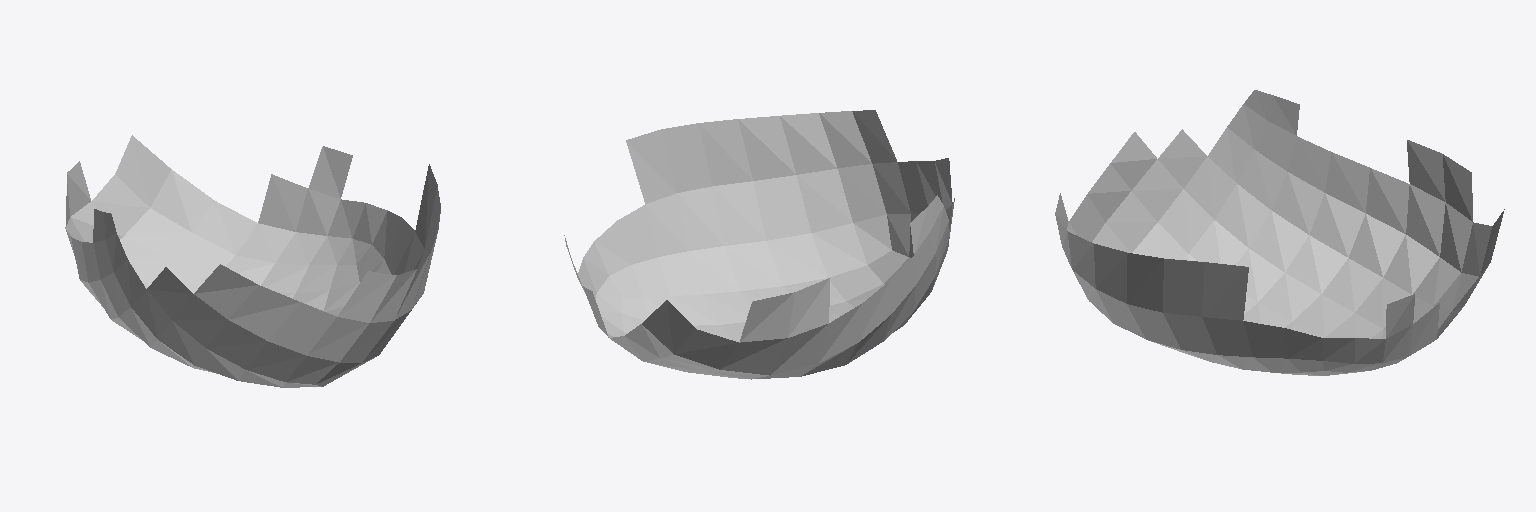
File: Sungod_sungod_sungod-mesh.001.obj
3 renders of one model, left to right at view 1: azimuth 30°, elevation 25°; view 2: azimuth 150°, elevation 25°; view 3: azimuth 270°, elevation 25°, orthographic.
Visible parts, largest first — view 1: Sungod_sungod_sungod-mesh.001; view 2: Sungod_sungod_sungod-mesh.001; view 3: Sungod_sungod_sungod-mesh.001.
Part boxes in pixels (left/top/right/bottom): Sungod_sungod_sungod-mesh.001: left=65, top=135, right=440, bottom=387; Sungod_sungod_sungod-mesh.001: left=564, top=110, right=954, bottom=379; Sungod_sungod_sungod-mesh.001: left=1055, top=90, right=1504, bottom=375.
Size of the model in its own units: 6.65 by 3.62 by 8.22.